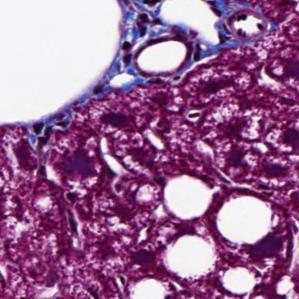inflammation: (97, 110, 166, 149), (208, 110, 265, 152), (1, 131, 45, 178), (112, 245, 165, 278)
